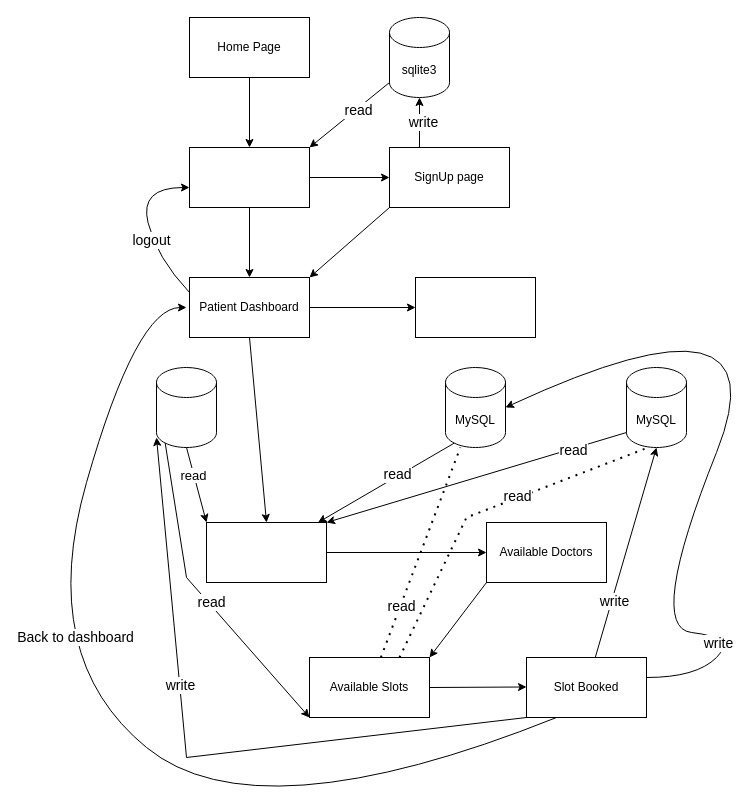
This 752x804 diagram has some shape labels left out. Each missing label, with the centre of its shape:
"Appointment History" belongs at (x=475, y=307).
"Book Appoinment" belongs at (x=266, y=552).
"Login/SignPage" belongs at (x=249, y=177).
"PostgreSQL" belongs at (x=186, y=407).
